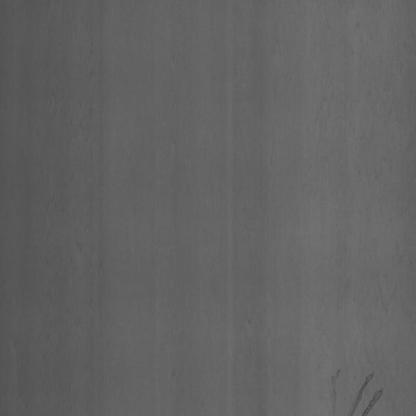water_spot: (328, 348, 388, 416)
